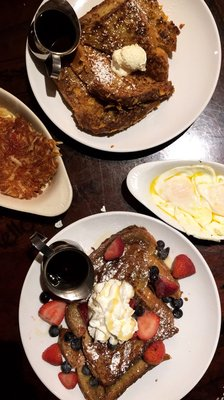salad: (29, 231, 94, 302)
sushi: (125, 159, 223, 243)
